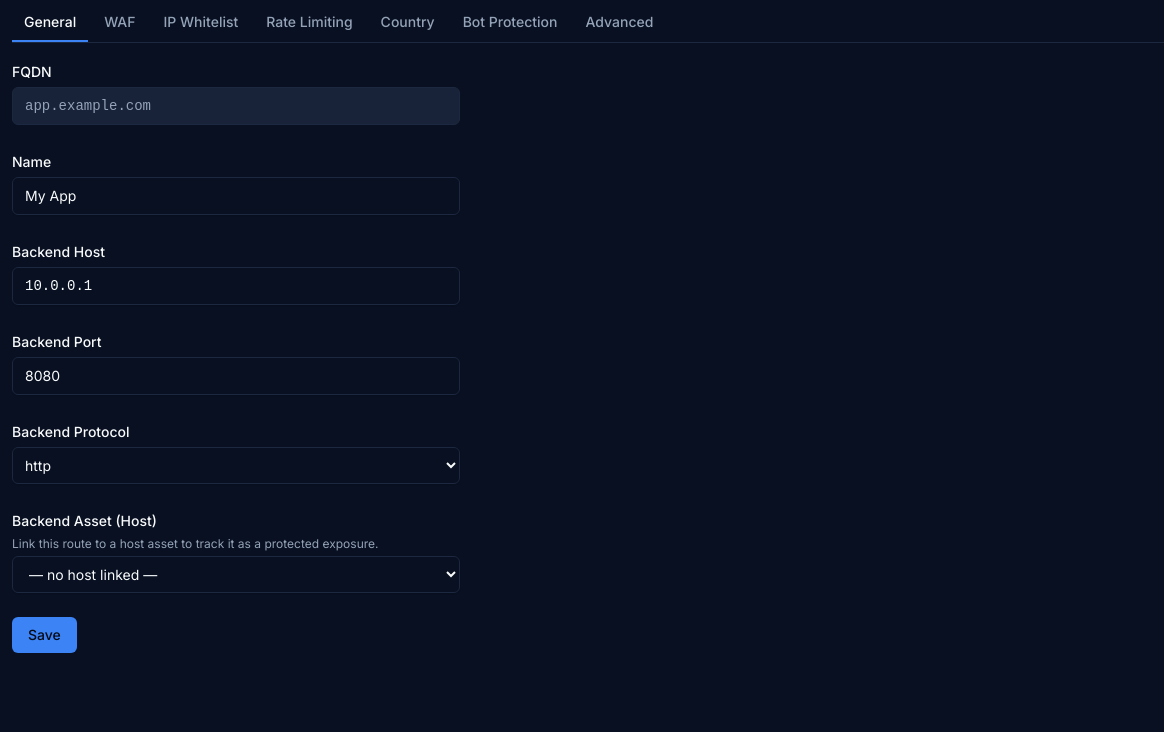
GeneralTab › removes dirty dot after save
Expected: the text "app.example.com" is shown, x1=12 y1=87 x2=460 y2=125
Type "Changed" into the field with test id "input-name" at (236, 196), box x1=12 y1=177 x2=460 y2=215
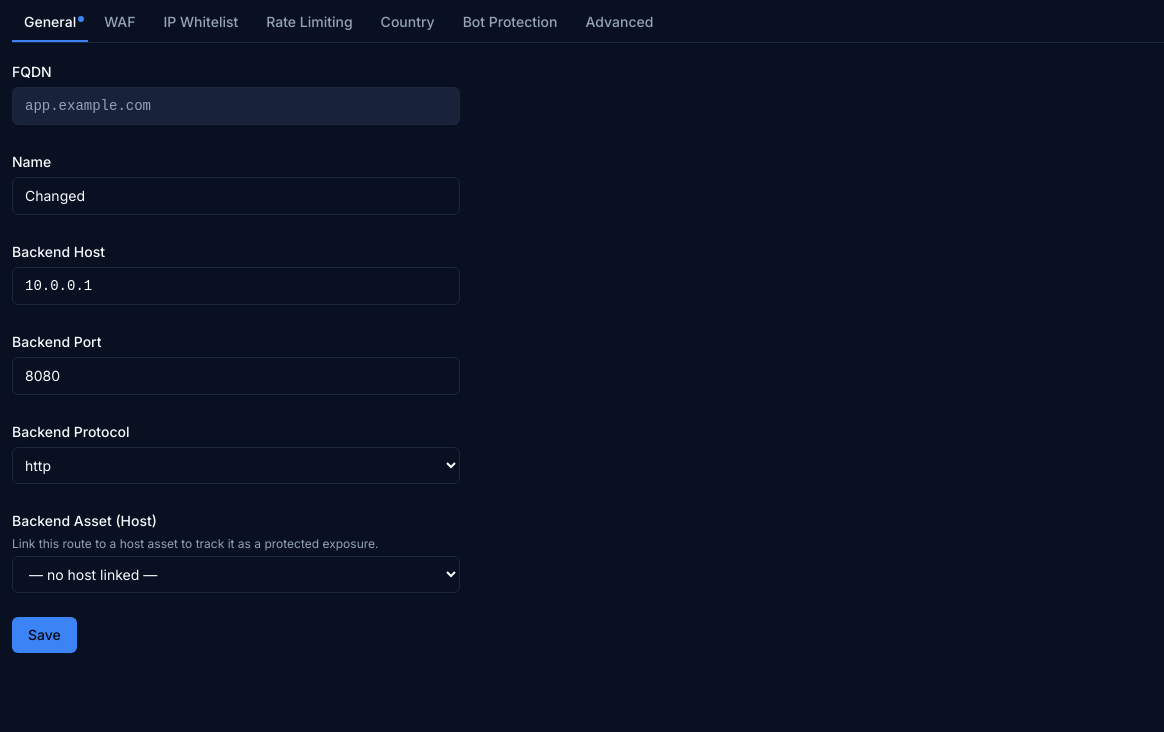
Expected: the element with test id "dirty-dot-general" is shown, x1=78 y1=16 x2=84 y2=22
Click the button "Save" at (44, 635), box x1=12 y1=617 x2=77 y2=653
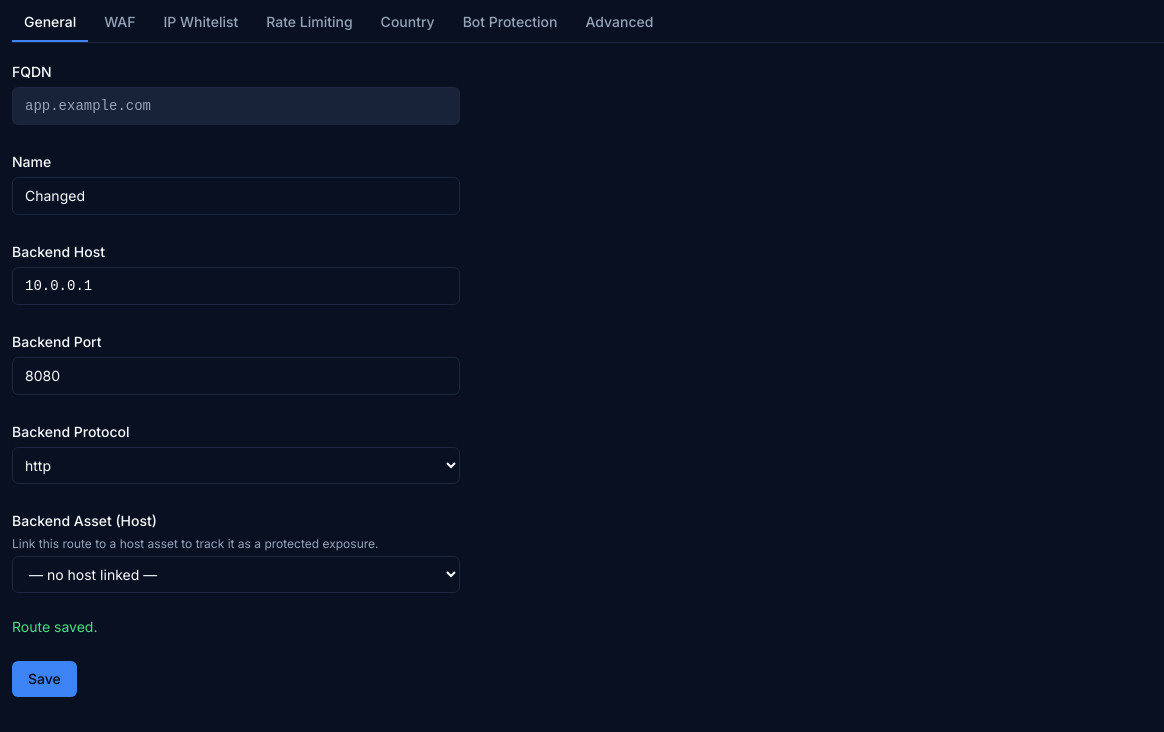
Expected: the element with test id "dirty-dot-general" is gone
